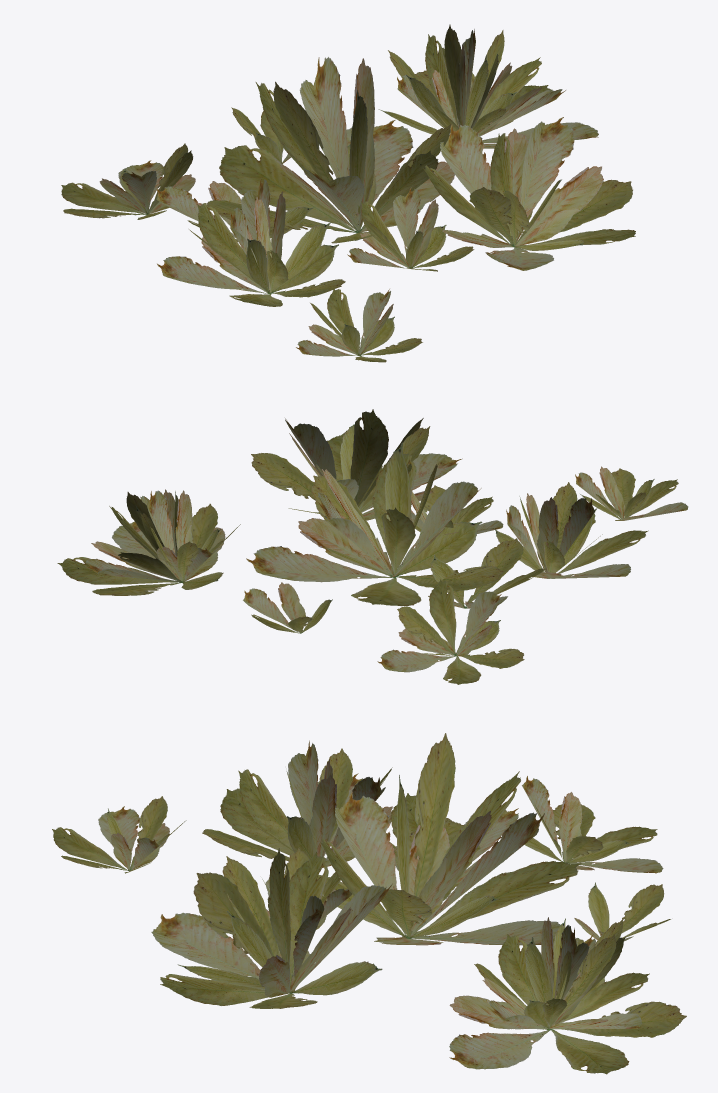
File: mato_b.glb
3 renders of one model, top to bottom at view 1: azimuth 30°, elevation 25°; view 2: azimuth 150°, elevation 25°; view 3: azimuth 270°, elevation 25°, orthographic. The views are drawn at different scales.
Visible parts, largest first — view 1: mato_b; view 2: mato_b; view 3: mato_b.
Part boxes in pixels (left/top/right/bottom): mato_b: left=61, top=24, right=635, bottom=362; mato_b: left=57, top=409, right=688, bottom=684; mato_b: left=52, top=733, right=686, bottom=1074.
Size of the model in its own units: 1.42 by 0.4396 by 1.43.
Materials: 1 (1 with a texture image).
